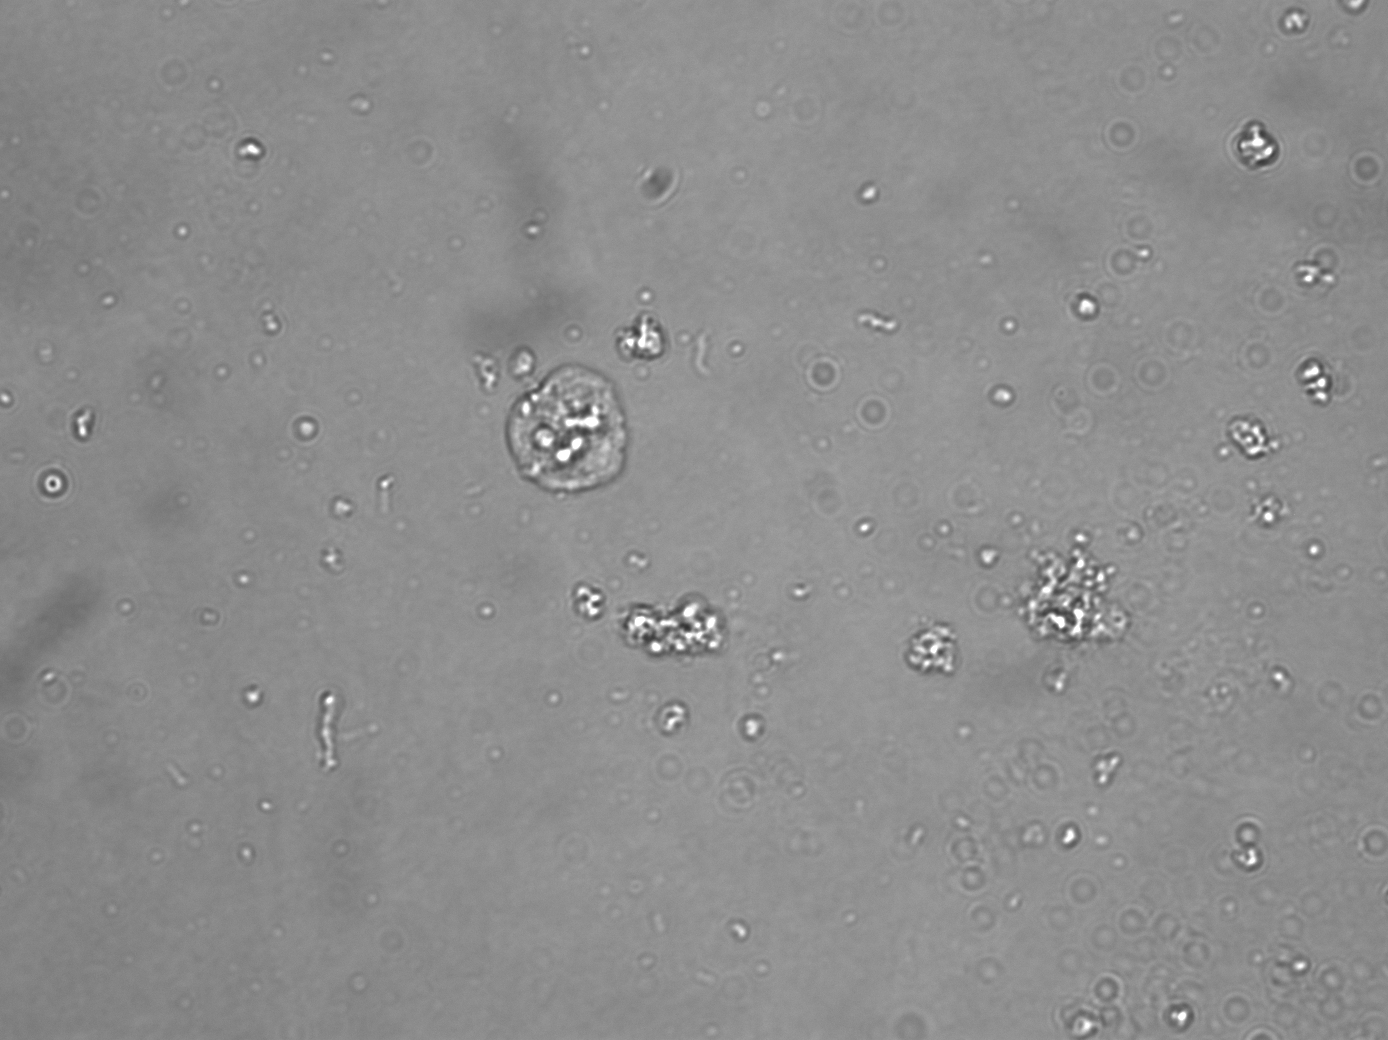ceil: (502, 364, 634, 497), (1008, 543, 1137, 650), (619, 588, 729, 659), (1226, 121, 1283, 173), (1215, 415, 1273, 462), (1292, 353, 1338, 410), (1294, 255, 1340, 292)
